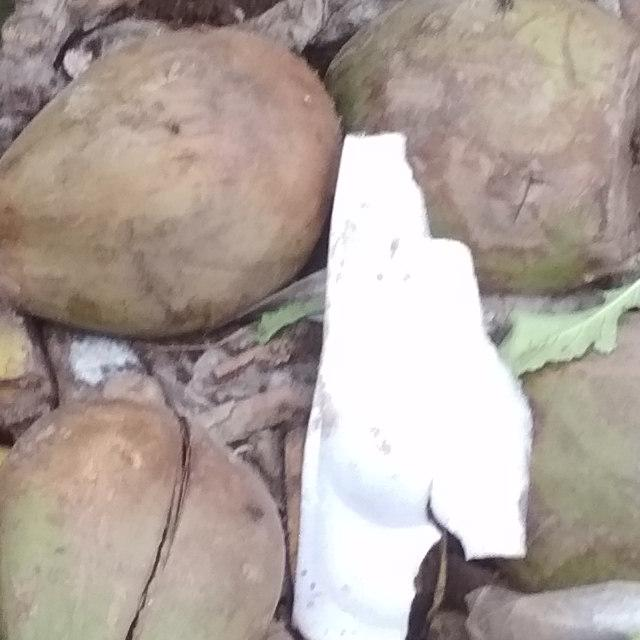food_waste: (0, 0, 364, 375), (290, 0, 640, 279), (0, 371, 333, 640), (451, 240, 640, 631)
